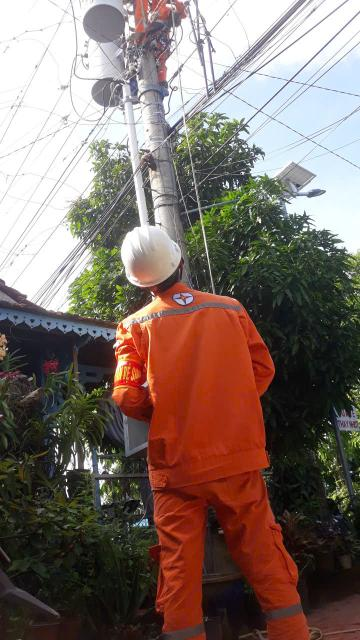helmet: (104, 212, 198, 300)
